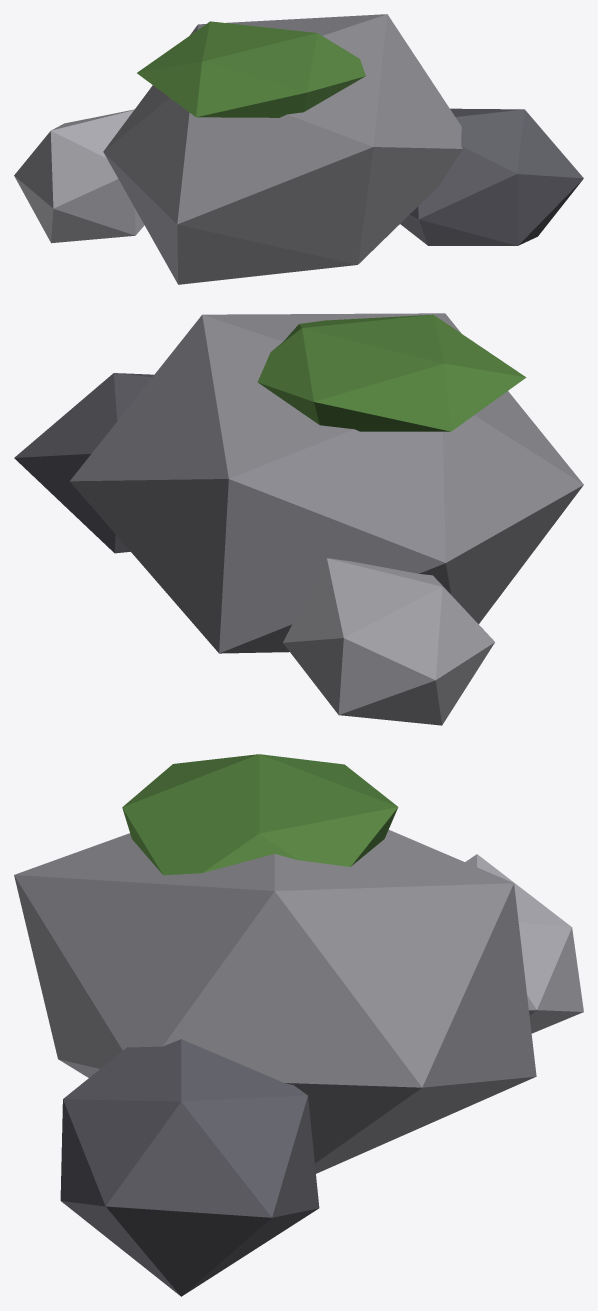
Rendered from rock.obj.
The picture shows the model from 3 angles, top to bottom: view 1: azimuth 30°, elevation 25°; view 2: azimuth 150°, elevation 25°; view 3: azimuth 270°, elevation 25°; orthographic projection. The views are drawn at different scales.
Visible parts, largest first — view 1: rock; view 2: rock; view 3: rock.
Boxes of the visible parts, bbox=[...] form: rock: bbox=[14, 14, 583, 284]; rock: bbox=[14, 313, 583, 725]; rock: bbox=[14, 754, 583, 1296].
Size of the model in its own units: 2.32 by 1.17 by 1.83.
